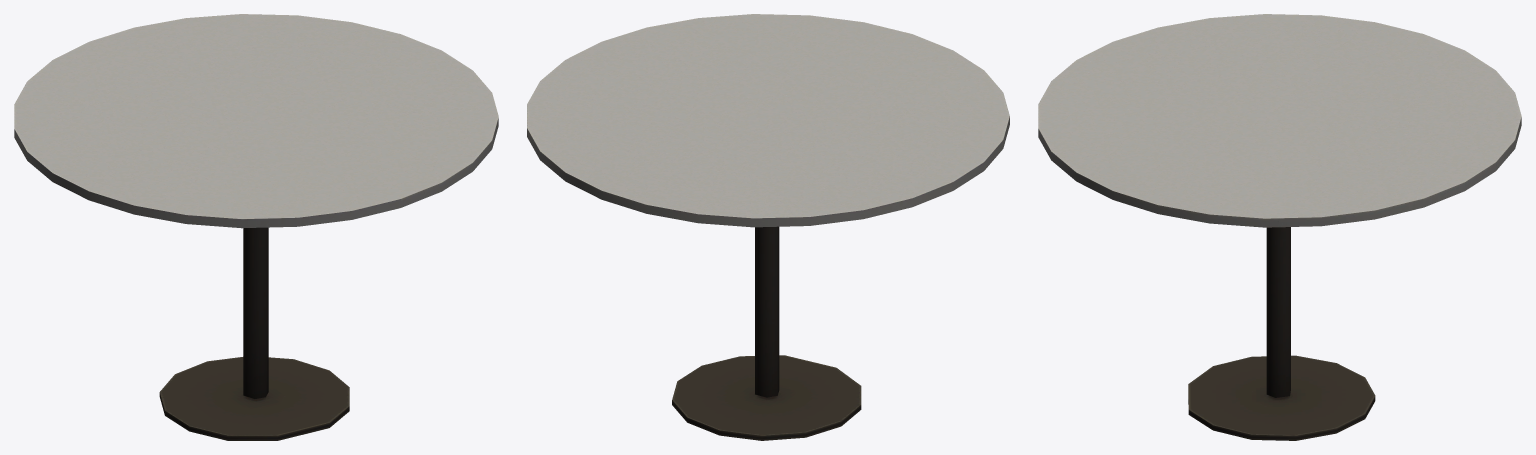
File: SM_Round_Table_Oneleg_Small.FBX
The picture shows the model from 3 angles, left to right: view 1: azimuth 30°, elevation 25°; view 2: azimuth 150°, elevation 25°; view 3: azimuth 270°, elevation 25°; orthographic projection.
Parts seen in each view (by area): view 1: SM_Round_Table_Oneleg_Small; view 2: SM_Round_Table_Oneleg_Small; view 3: SM_Round_Table_Oneleg_Small.
Part boxes in pixels (left/top/right/bottom): SM_Round_Table_Oneleg_Small: left=14, top=14, right=498, bottom=440; SM_Round_Table_Oneleg_Small: left=527, top=14, right=1009, bottom=440; SM_Round_Table_Oneleg_Small: left=1038, top=14, right=1521, bottom=440.
Size of the model in its own units: 96.24 by 96.08 by 62.41.
